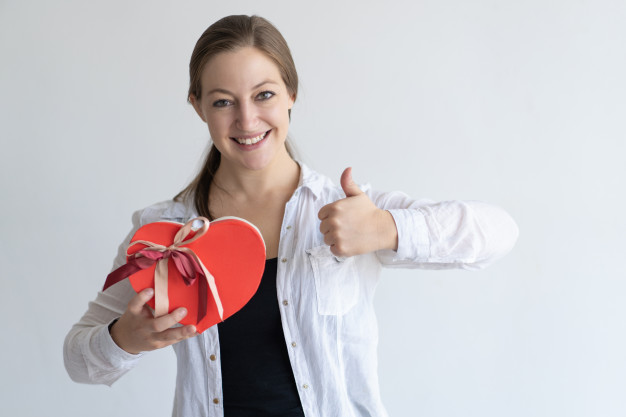thumbsup: (318, 167, 363, 256)
